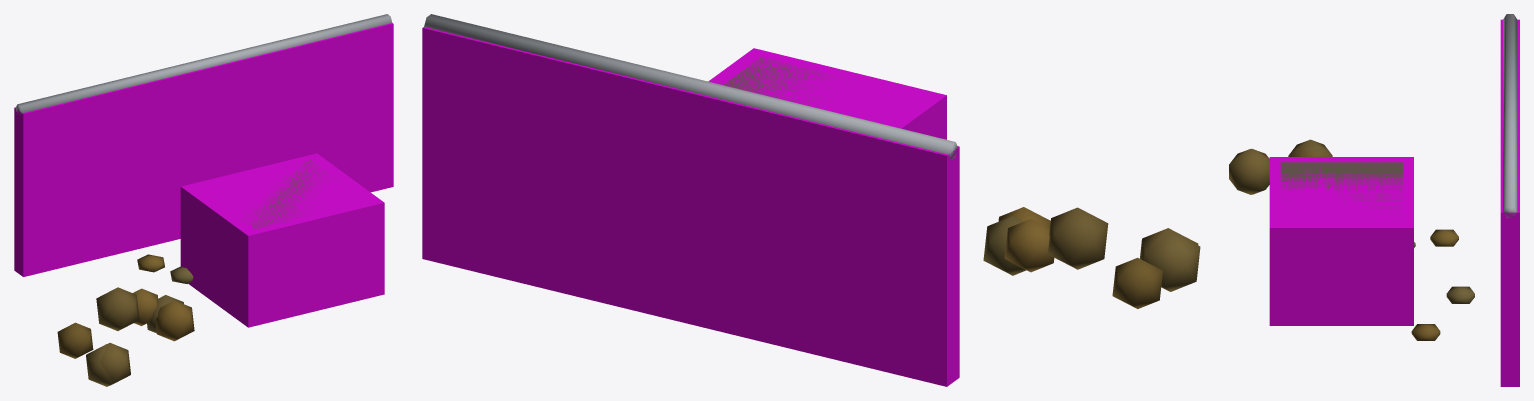
Rendered from PRP_Coconut_Stone_A.glb.
3 views of the same model, side by side, from view 1: azimuth 30°, elevation 25°; view 2: azimuth 150°, elevation 25°; view 3: azimuth 270°, elevation 25° (orthographic). The views are drawn at different scales.
Visible parts, largest first — view 1: COL_Rail, COL_Stone, PRP_Coconut_Stone_A_Mesh; view 2: COL_Rail, PRP_Coconut_Stone_A_Mesh, COL_Stone; view 3: COL_Stone, PRP_Coconut_Stone_A_Mesh, COL_Rail.
Part boxes in pixels (x1,y1,x2,y2): COL_Rail: (14, 23, 393, 276); COL_Stone: (180, 153, 384, 327); PRP_Coconut_Stone_A_Mesh: (15, 14, 392, 386); COL_Rail: (422, 27, 959, 386); PRP_Coconut_Stone_A_Mesh: (424, 14, 1200, 308); COL_Stone: (708, 48, 946, 139); COL_Stone: (1269, 157, 1413, 325); PRP_Coconut_Stone_A_Mesh: (1229, 14, 1517, 340); COL_Rail: (1500, 19, 1519, 386).
Bounding box in the file's own units: 2.17 × 0.9082 × 1.21.
